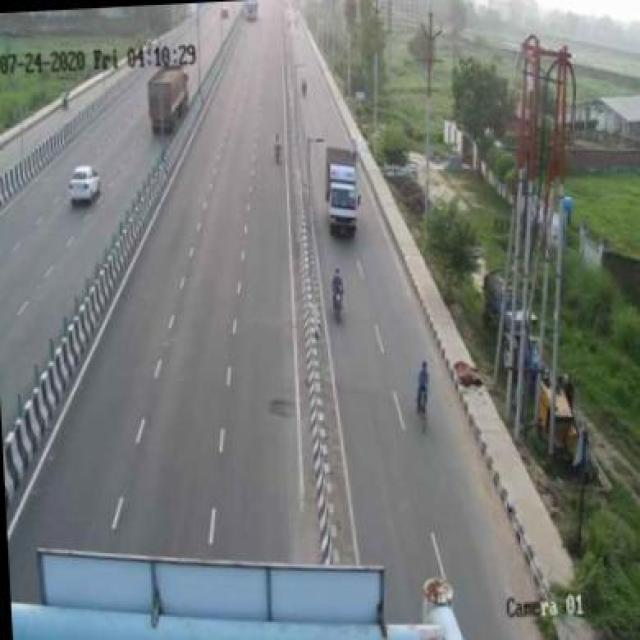car: (315, 134, 364, 243)
